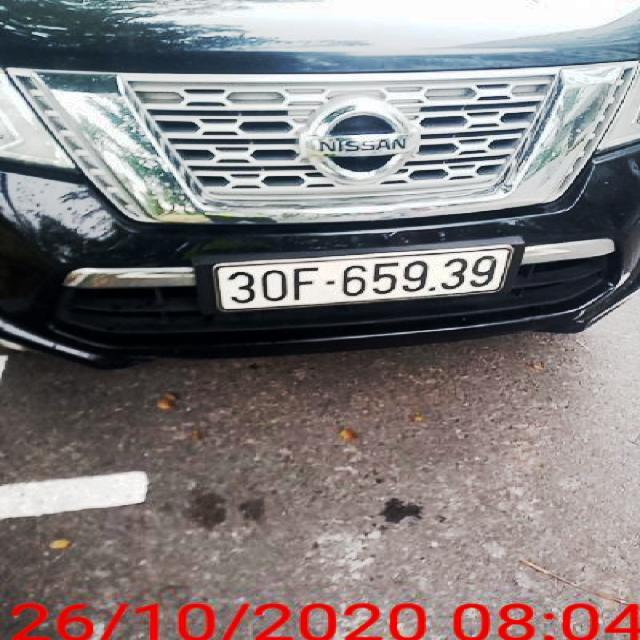license_plate: (219, 249, 514, 310)
